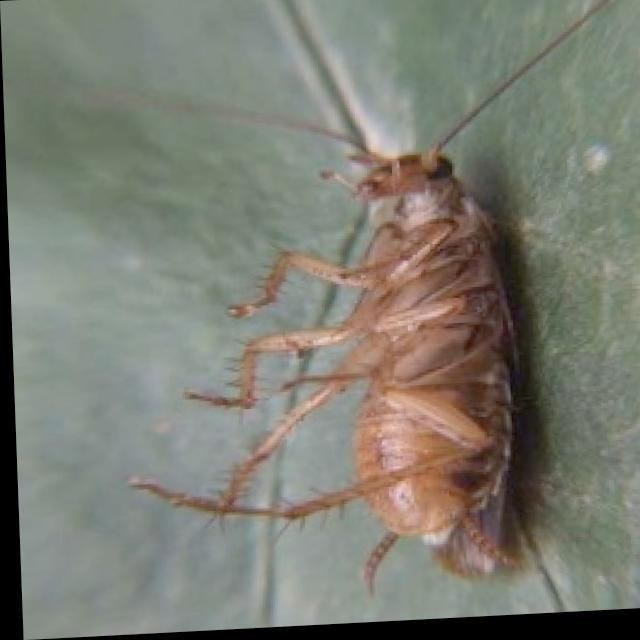cockroach: (117, 4, 617, 602)
